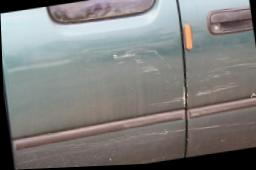Door: (1, 11, 192, 170), (179, 2, 256, 157)
